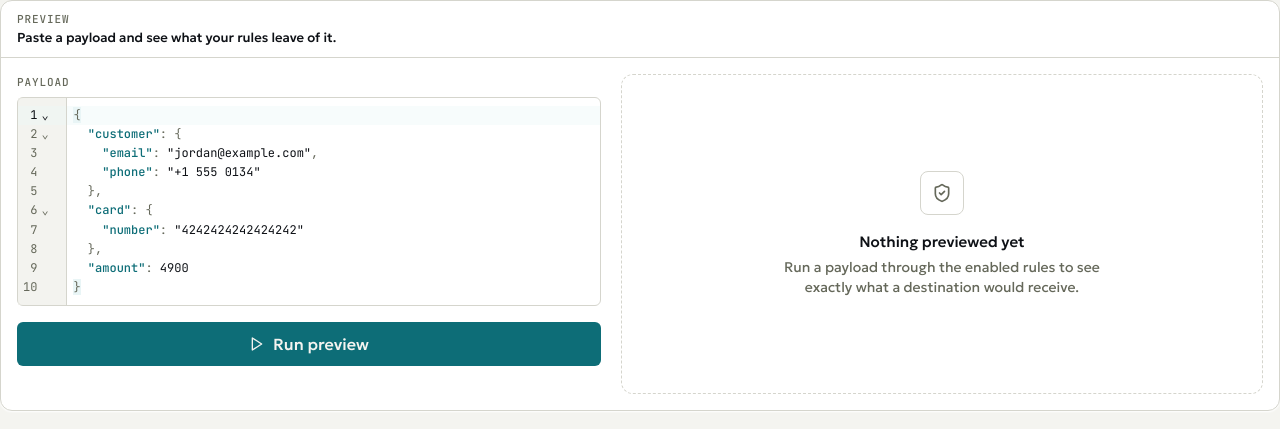
Test: PiiPreview › renders a preview the client handed back already parsed
Click the button "Run preview" at (309, 344), box [17, 322, 601, 366]
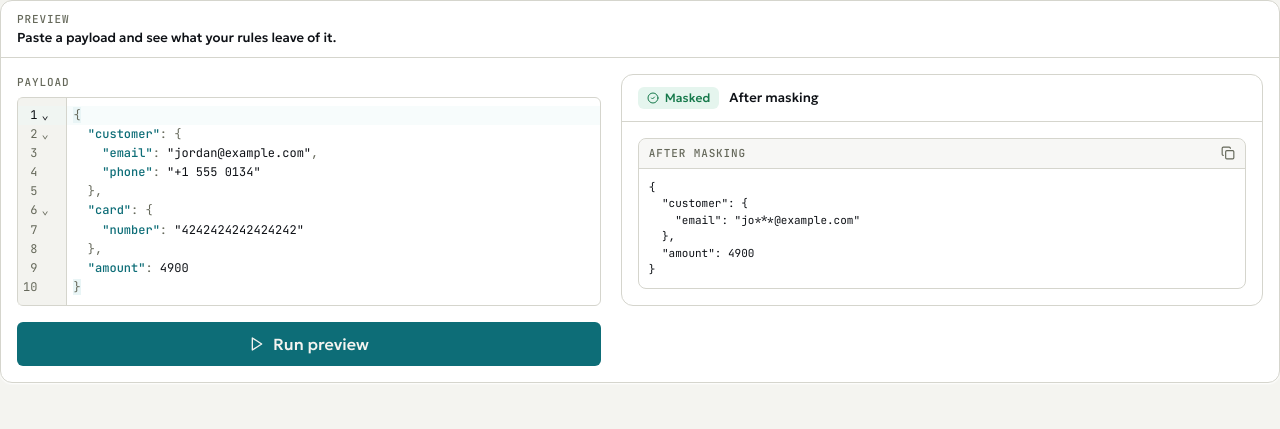
Result: the text "jo***@example.com" is shown at [649, 180, 860, 276]
